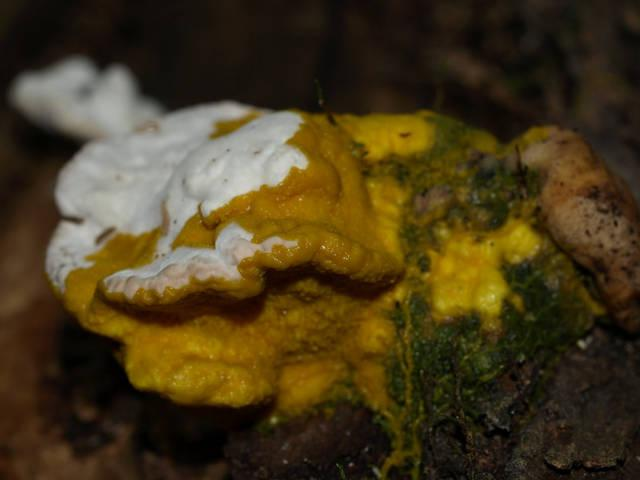poisonous_mushroom: (13, 58, 640, 398)
